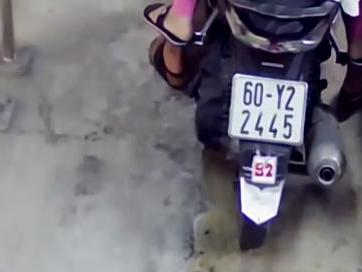num_plate: (229, 72, 309, 148)
